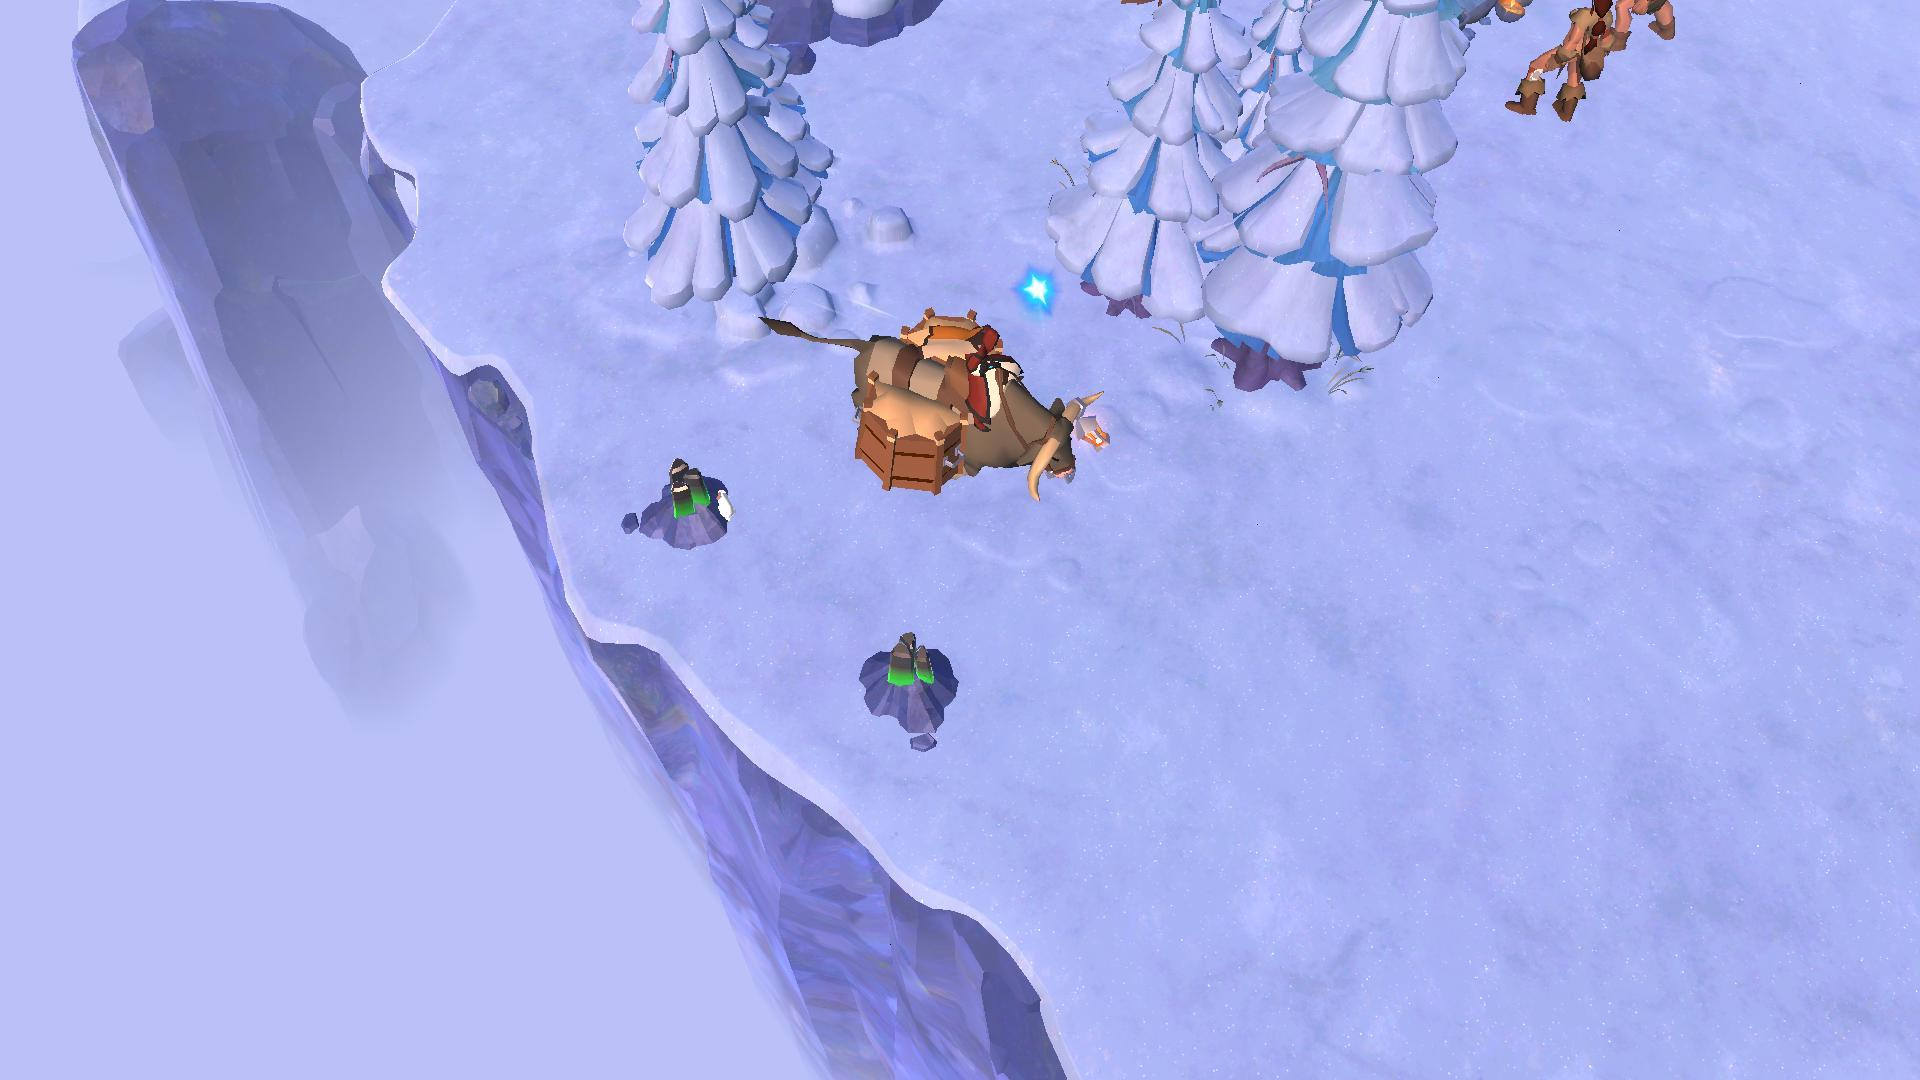enemy_factionKeeper: (1511, 0, 1613, 119), (1593, 0, 1683, 50)
ore_t3: (878, 622, 934, 702), (655, 451, 715, 520)
